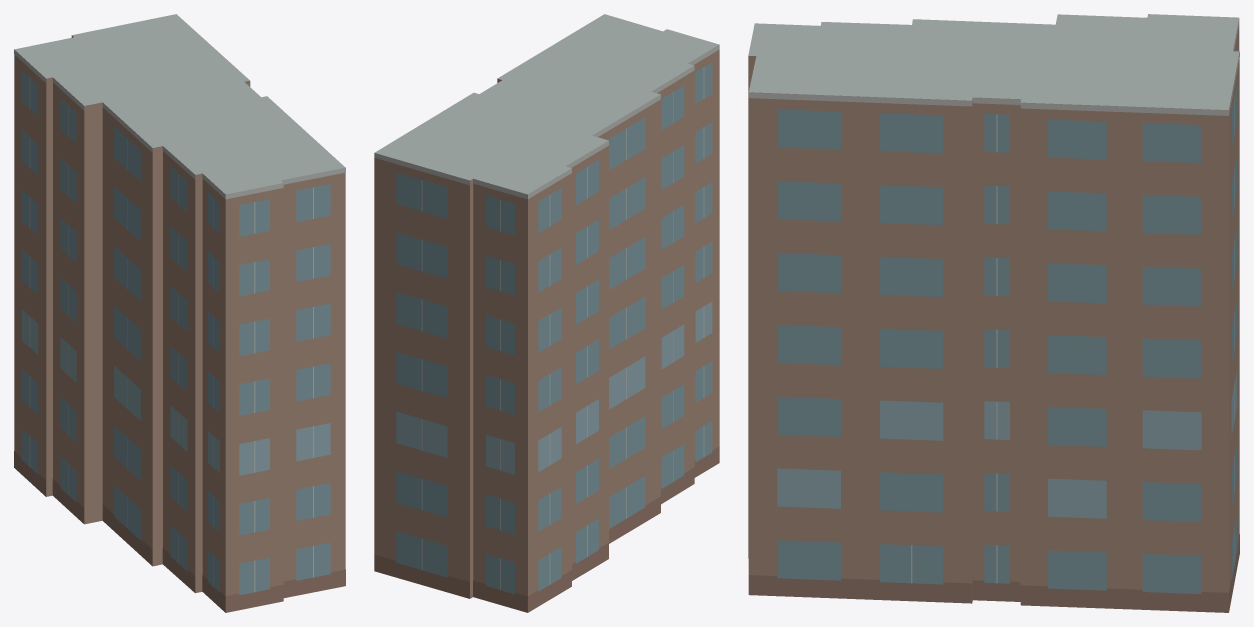
The model's file is survey-upis-32767314.glb.
3 views of the same model, side by side, from view 1: azimuth 30°, elevation 25°; view 2: azimuth 150°, elevation 25°; view 3: azimuth 270°, elevation 25° (orthographic). The views are drawn at different scales.
Visible parts, largest first — view 1: survey-upis-32767314.tmp; view 2: survey-upis-32767314.tmp; view 3: survey-upis-32767314.tmp.
Boxes of the visible parts, left/top/right/bottom form: survey-upis-32767314.tmp: left=14, top=14, right=345, bottom=612; survey-upis-32767314.tmp: left=374, top=14, right=719, bottom=612; survey-upis-32767314.tmp: left=748, top=14, right=1239, bottom=612.
Size of the model in its own units: 8.62 by 21 by 18.61.
